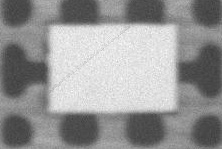DIE_CRACK: (74, 17, 194, 61)
